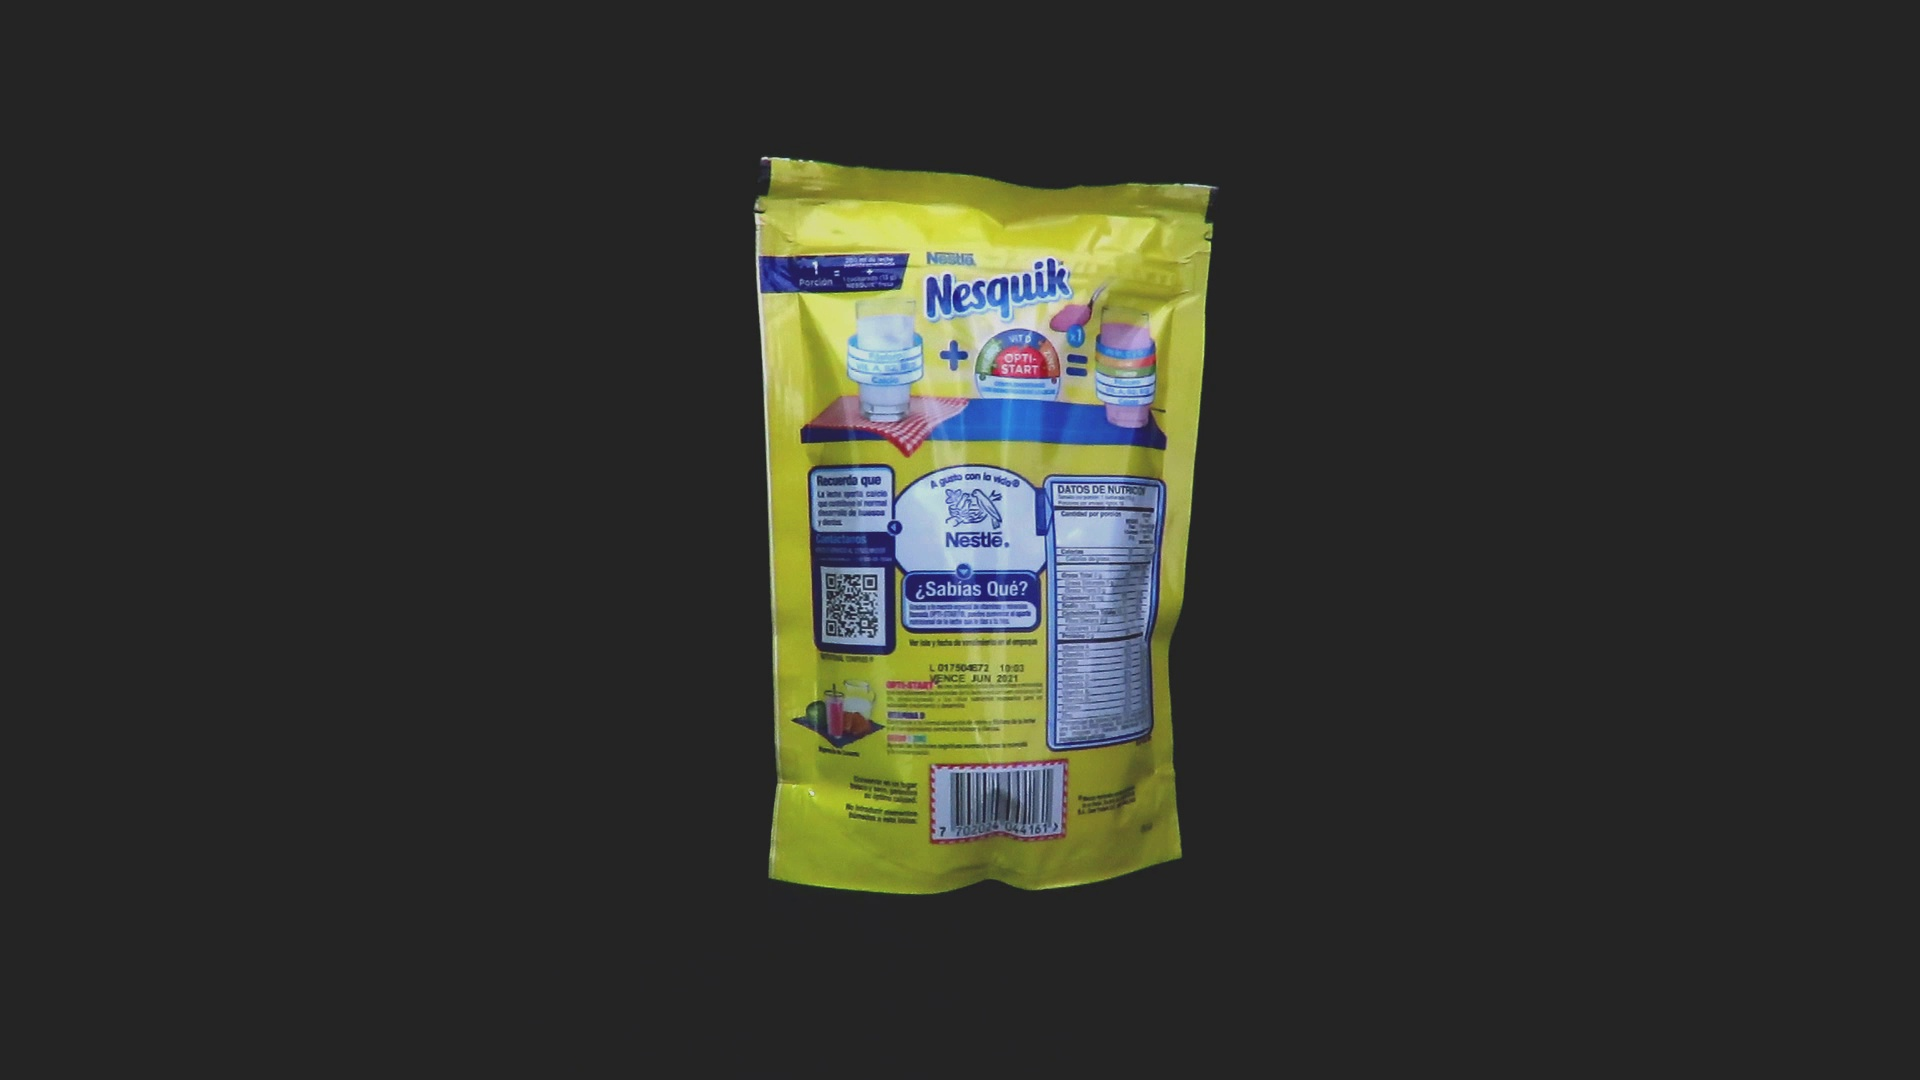COL0170305DYP20000: (749, 152, 1222, 901)
